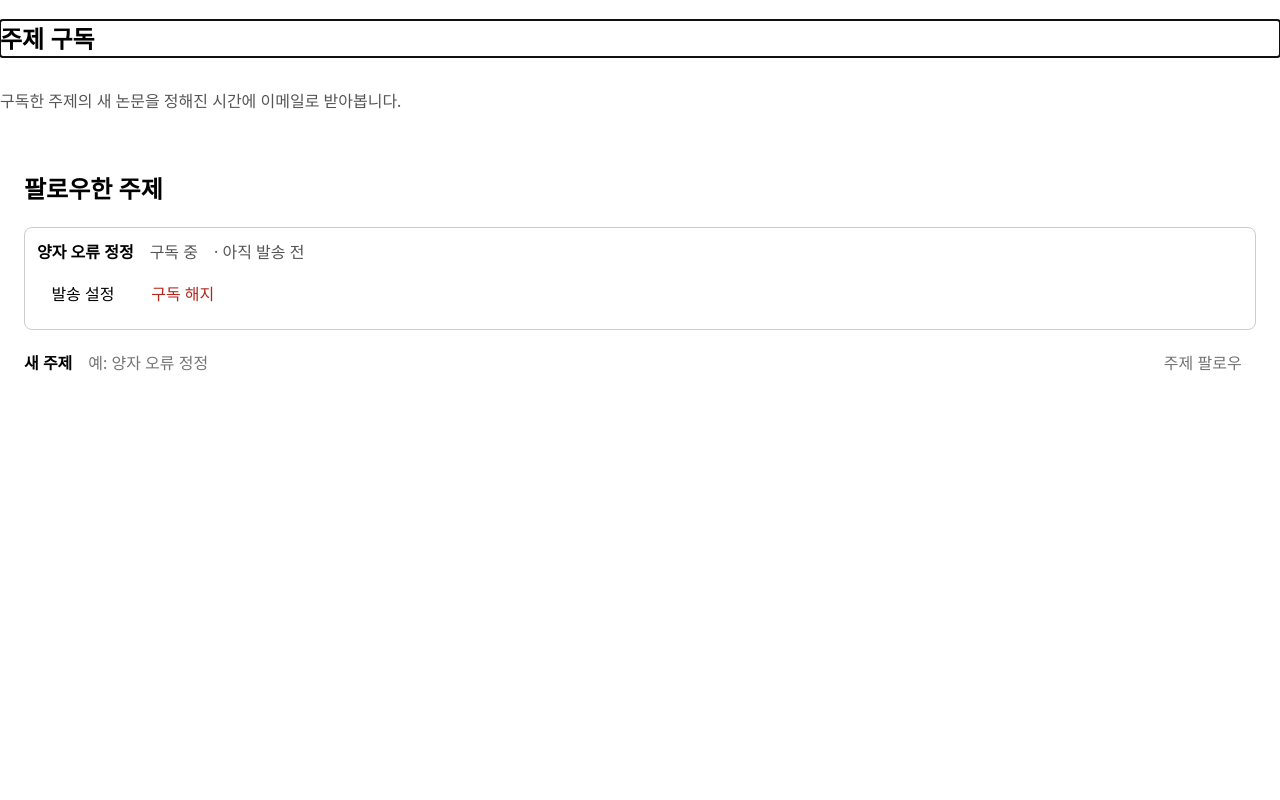
Test: digest settings form › prefills, saves with the loaded revision, and reports the acknowledged state
The image size is (1280, 800).
Click the button with test id "settings-link" at (83, 295), box [37, 273, 129, 317]
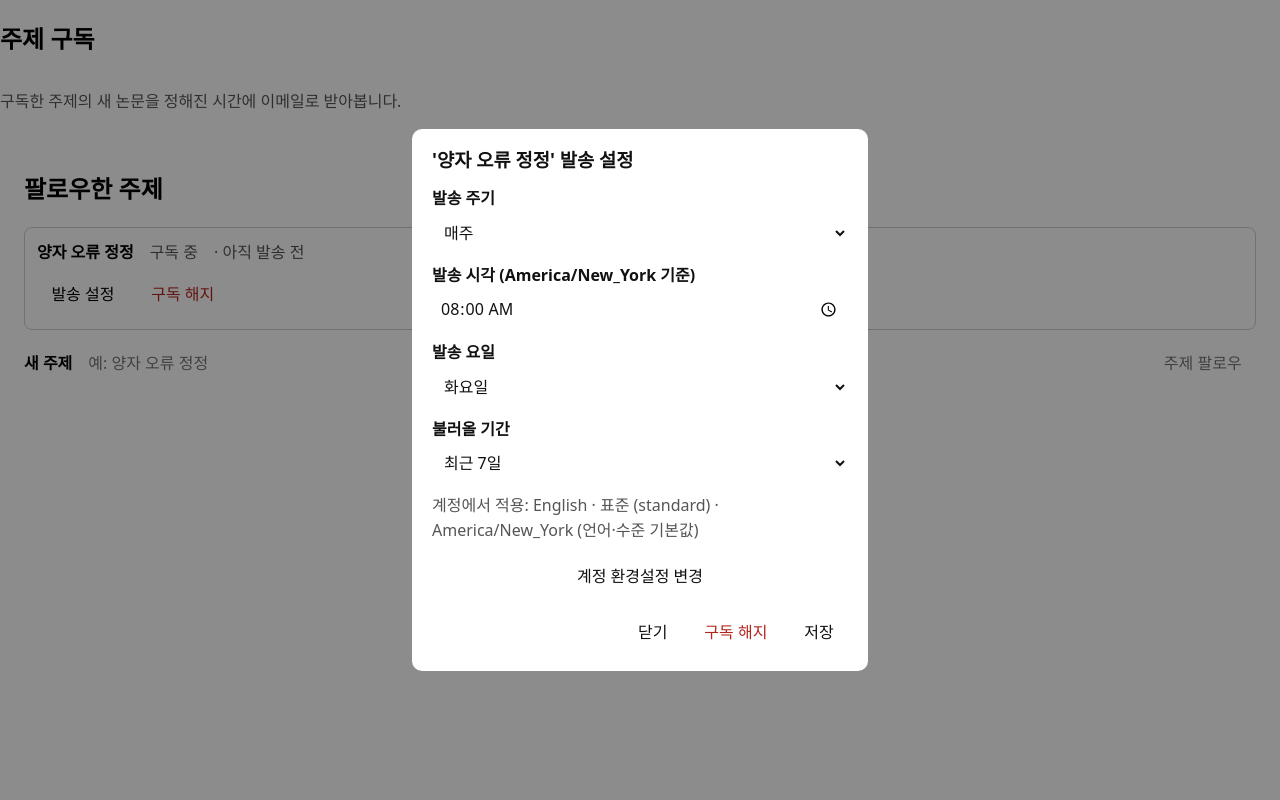
Now the dropdown with test id "cadence-select" shows "매주", box [432, 215, 848, 251]
Now the dropdown with test id "delivery-day" shows "화요일", box [432, 368, 848, 404]
Click the button with test id "save-button" at (819, 633), box [790, 611, 848, 655]
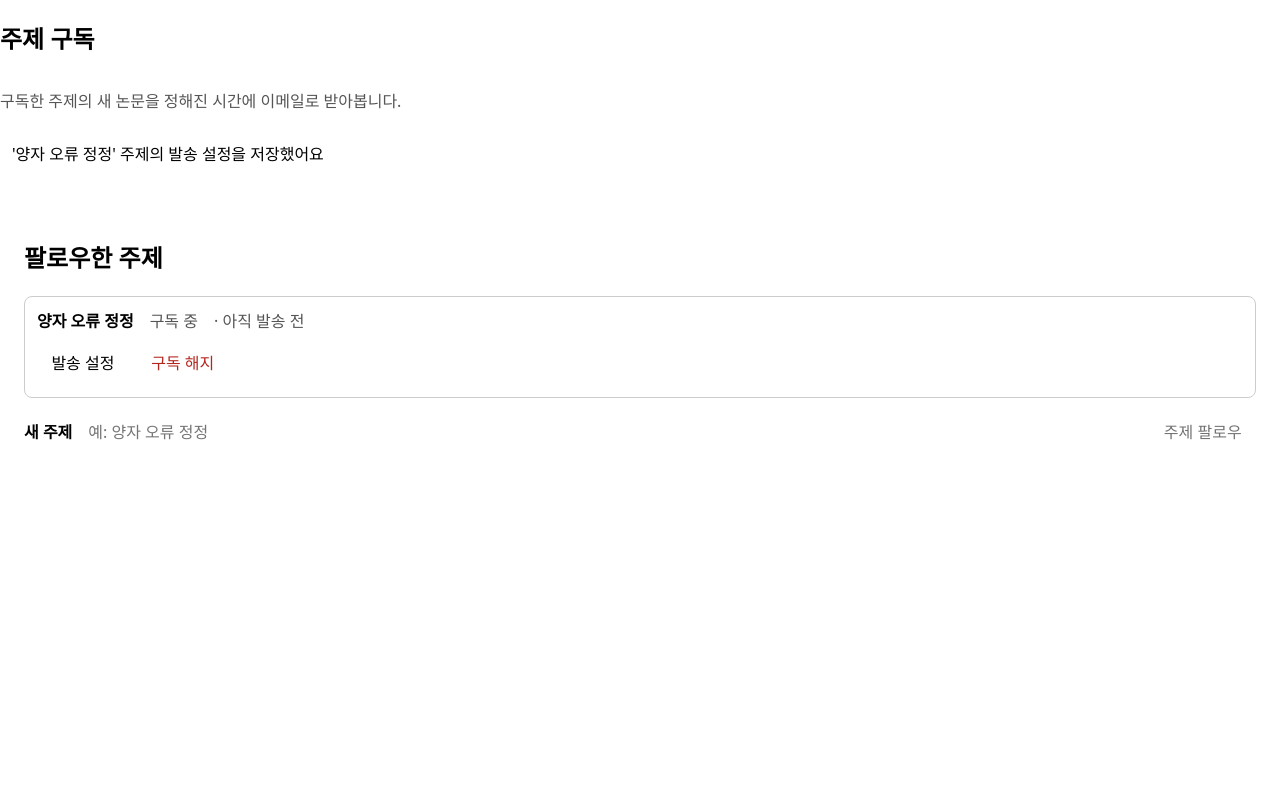
Now the text "'양자 오류 정정' 주제의 발송 설정을 저장했어요" is shown, box [12, 143, 324, 165]
